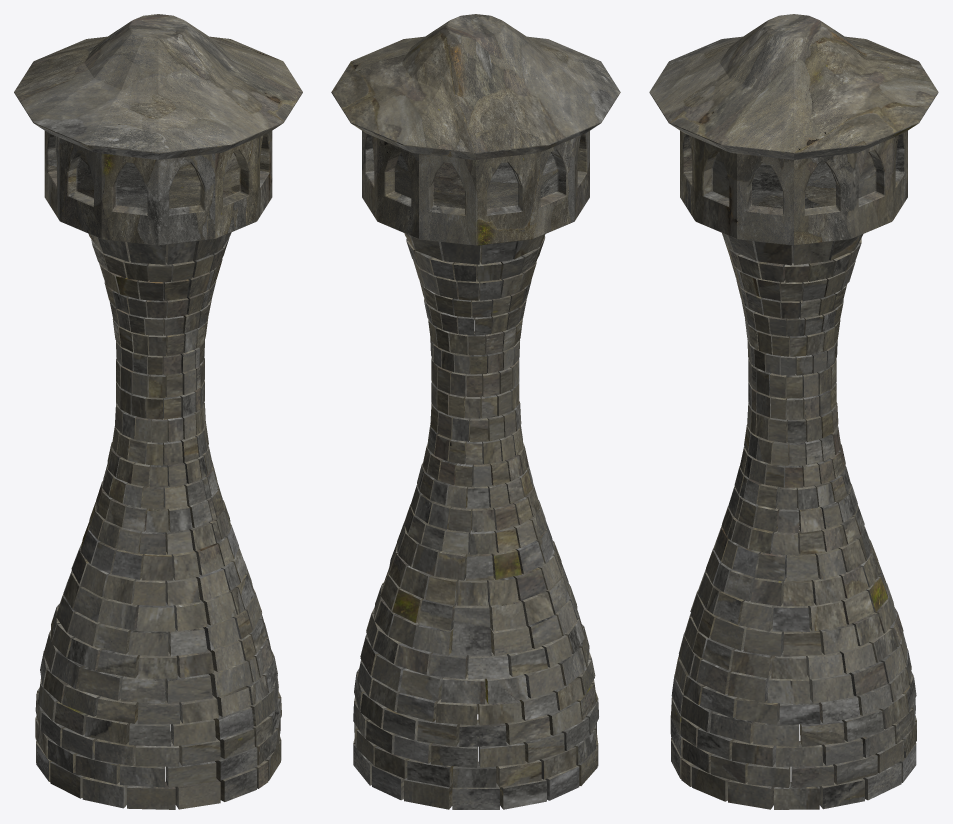
The model's file is wizard_tower.fbx.
3 renders of one model, left to right at view 1: azimuth 30°, elevation 25°; view 2: azimuth 150°, elevation 25°; view 3: azimuth 270°, elevation 25°, orthographic.
Visible parts, largest first — view 1: tower_wall_low, tower_cap; view 2: tower_wall_low, tower_cap; view 3: tower_wall_low, tower_cap.
Part boxes in pixels (left/top/right/bottom): tower_wall_low: left=35, top=232, right=281, bottom=809; tower_cap: left=14, top=14, right=302, bottom=245; tower_wall_low: left=353, top=233, right=598, bottom=809; tower_cap: left=331, top=14, right=620, bottom=245; tower_wall_low: left=670, top=233, right=916, bottom=809; tower_cap: left=649, top=14, right=938, bottom=245.
Bounding box in the file's own units: 3750 × 10491 × 3750.
2 materials, 2 textured.
